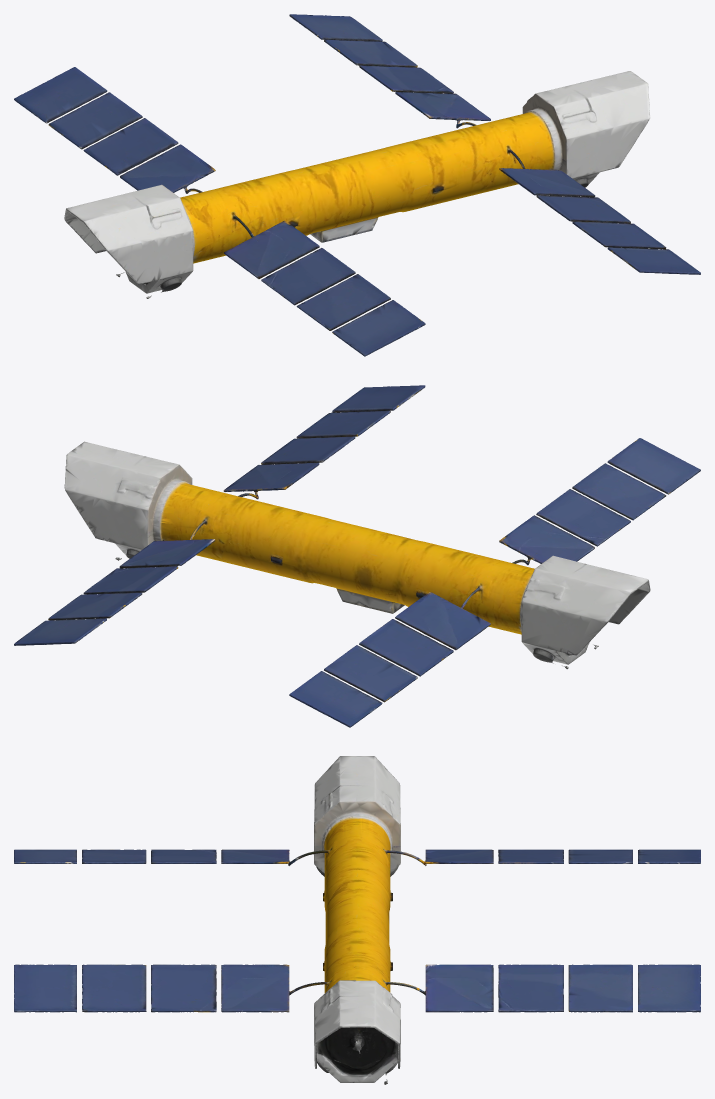
The model's file is athena.glb.
3 views of the same model, one above another, from view 1: azimuth 30°, elevation 25°; view 2: azimuth 150°, elevation 25°; view 3: azimuth 270°, elevation 25° (orthographic). The views are drawn at different scales.
Bounding box in the file's own units: 1.77 × 0.2642 × 1.9.
1 material, 1 textured.
